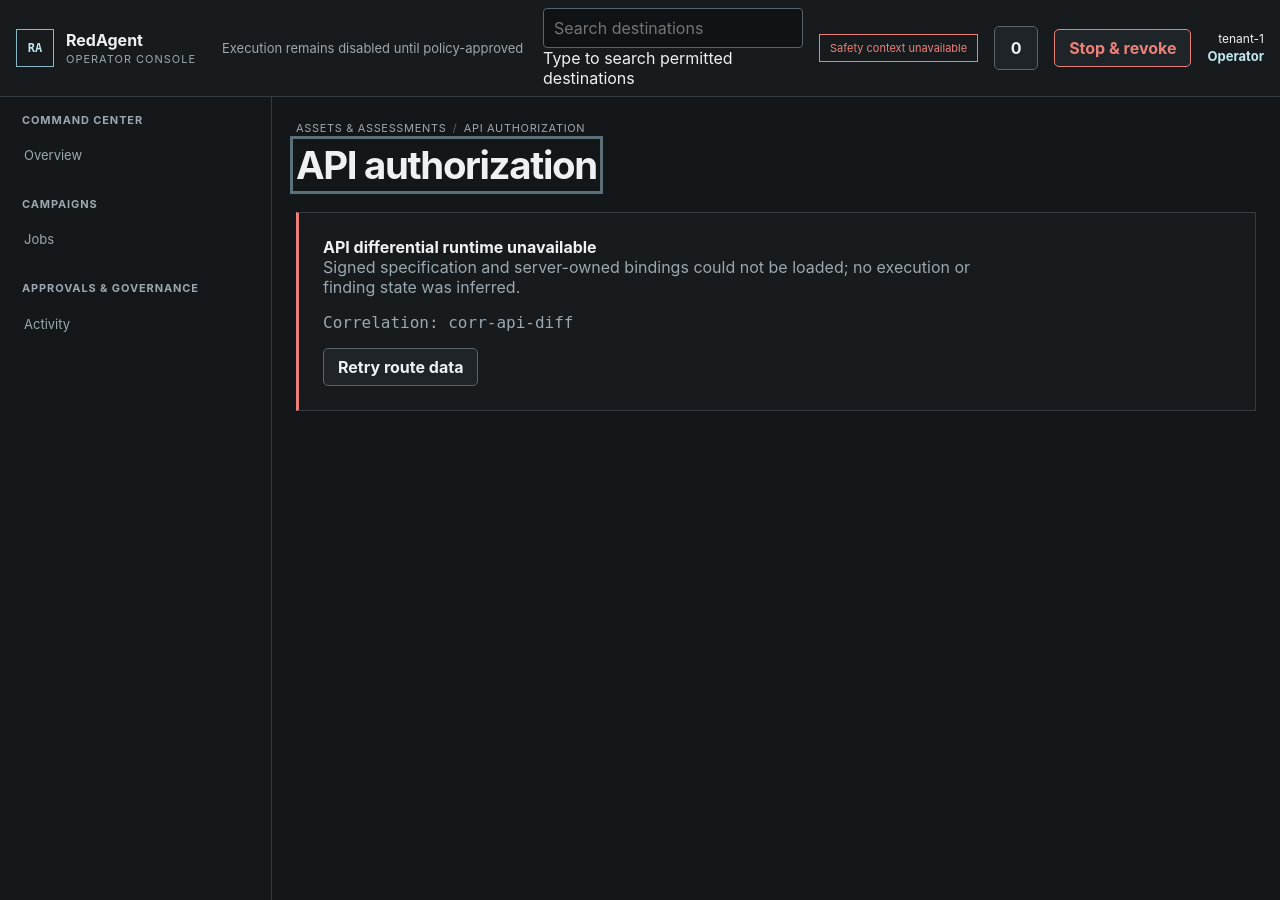
it: projects a correlated API differential outage and retries without inferring finding state
The image size is (1280, 900).
Expected: the message "API differential runtime unavailable" is shown, [296,212,1256,411]
Expected: the text "Correlation: corr-api-diff" is shown, [323,313,574,332]
What coordinates should you click on to do the following:
click the button "Retry route data"
I would click on:
 (401, 367)
Its box is [323,348,478,386].
(page scrolled)
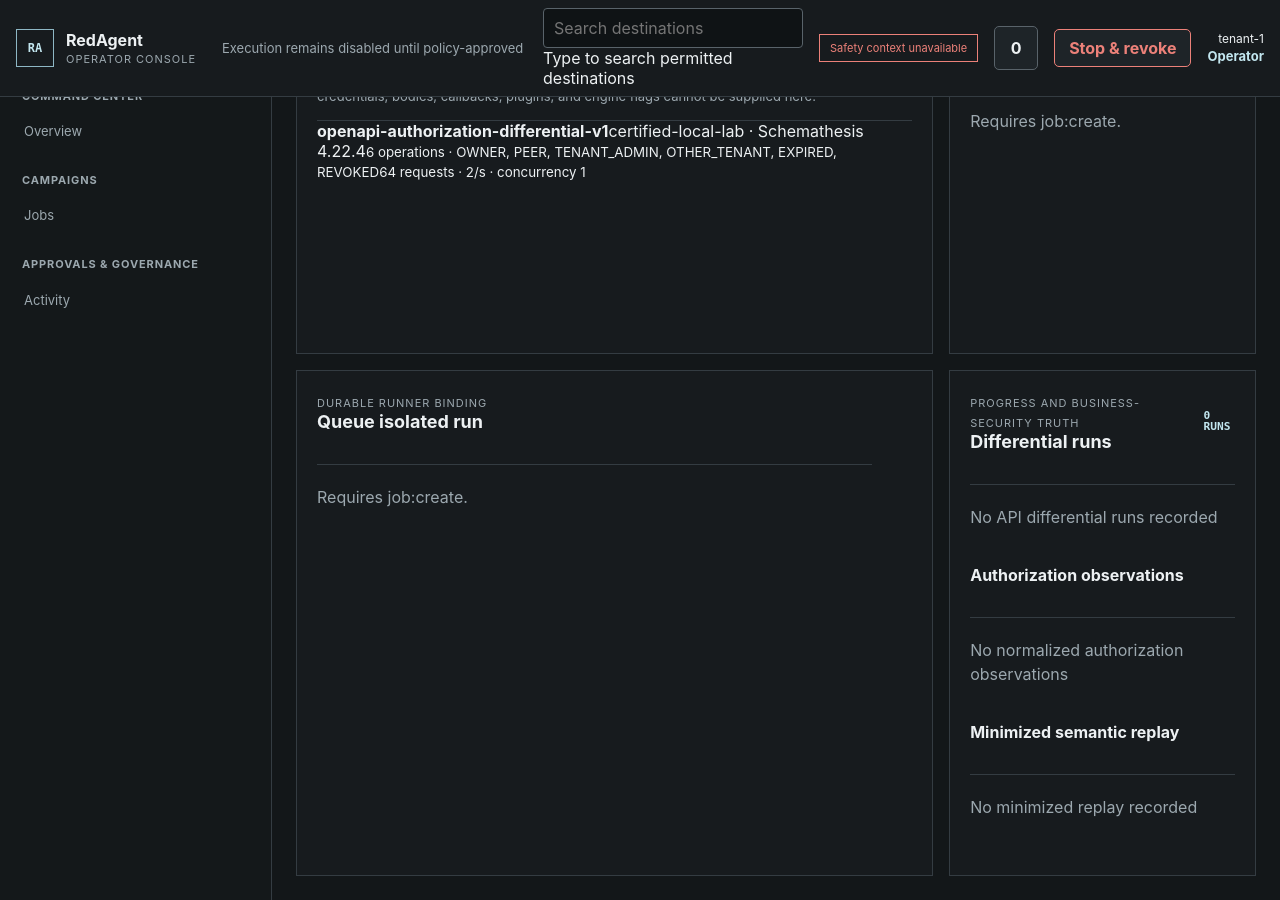
Expected: the text "No normalized authorization observations" is shown, [970,617,1235,706]
